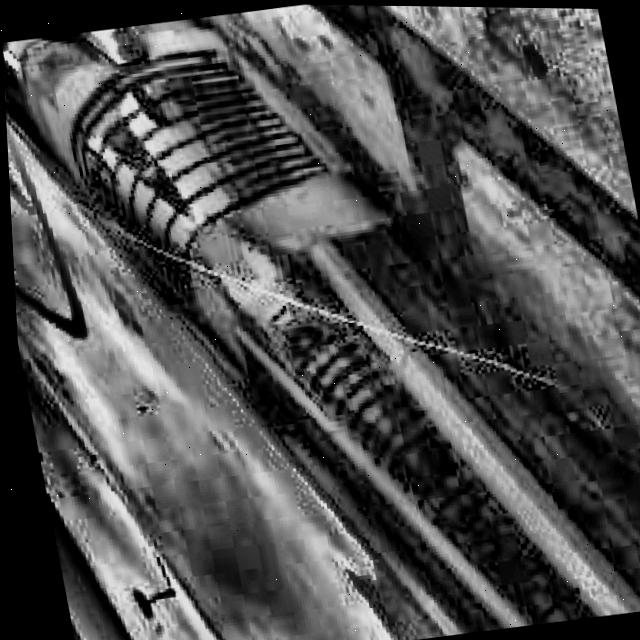door_scratch: (180, 231, 547, 436)
